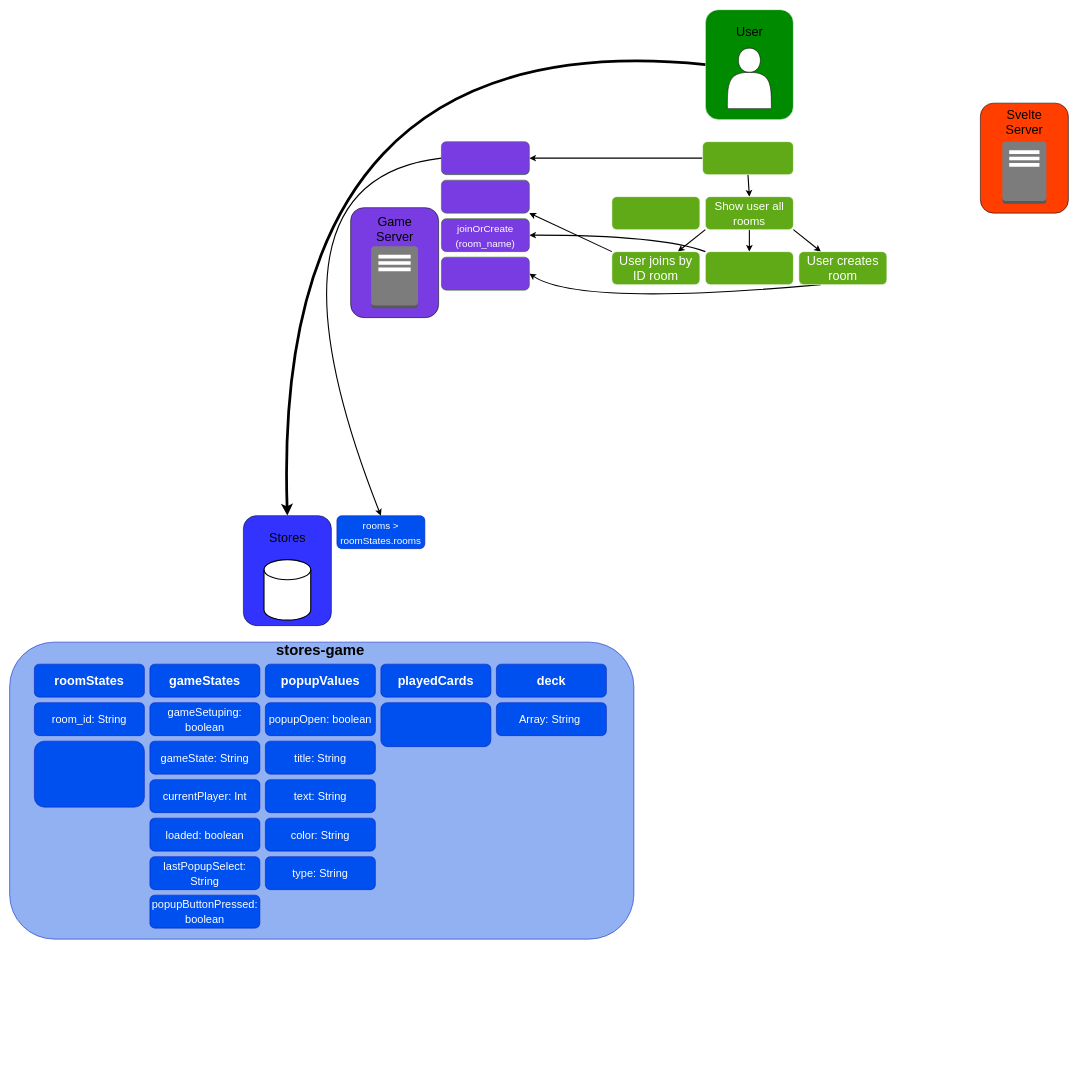
This 1078x1086 diagram has some shape labels left out. Each missing label, with the centre of its shape:
"create (room_name)" goes at (x=485, y=273).
"get rooms from roomStates.rooms" goes at (x=655, y=213).
"getAvailableRooms" goes at (x=485, y=158).
"joinByID (room_name)" goes at (x=485, y=196).
"Object Array {played_id: Int name: String}" goes at (x=435, y=724).
"rooms: array {room_id: String room_name: String room_players: int}" goes at (x=89, y=774).
"User matchmakes" goes at (x=749, y=268).
"User opens game" goes at (x=747, y=158).
